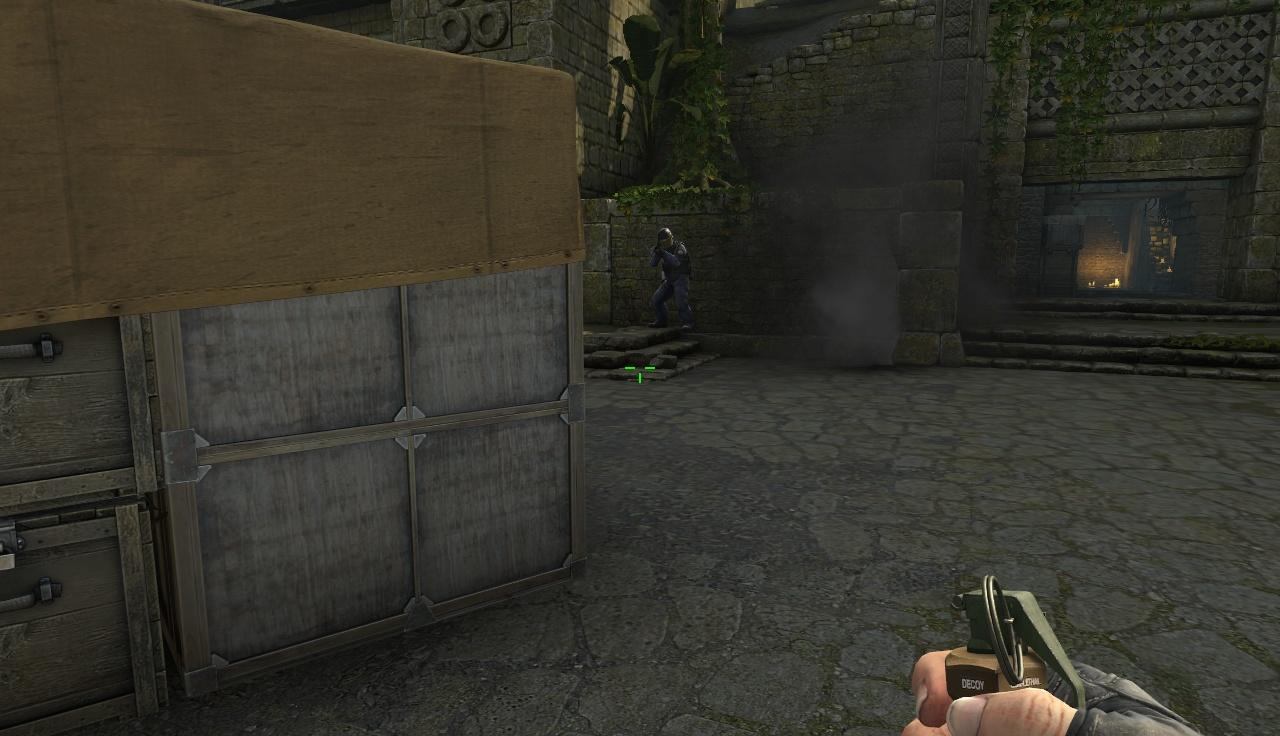ct: (653, 227, 690, 328)
cthead: (655, 229, 672, 250)
